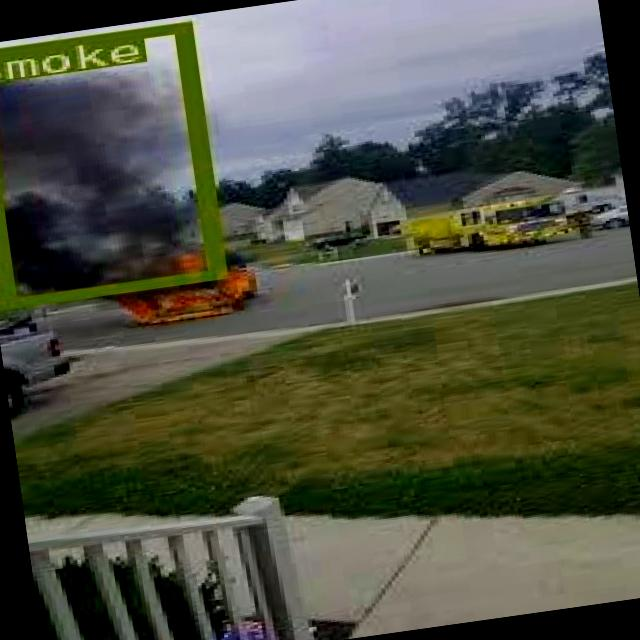smoke: (0, 21, 221, 307)
